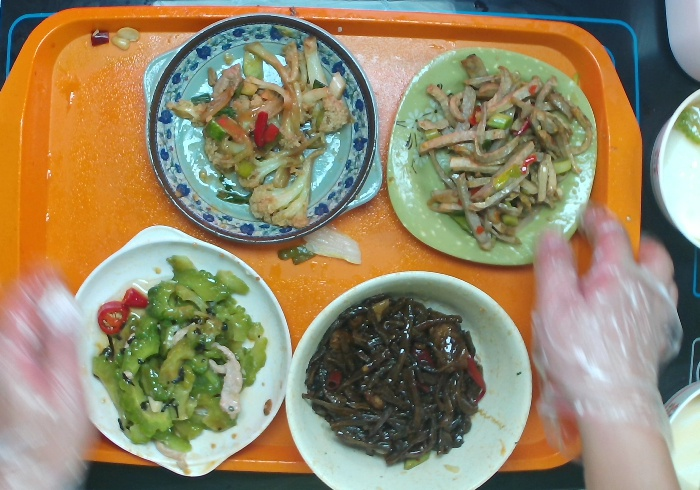NLDX-Bai_Se_Shuang_Er_Die: (63, 221, 291, 480)
NLDX-Bai_Se_Yuan_Wan: (282, 265, 538, 489)
NLDX-Lv_Hua_Fang_Die: (382, 40, 599, 275)
NLDX-Qing_Hua_Shuang_Er_Die: (134, 7, 387, 246)
